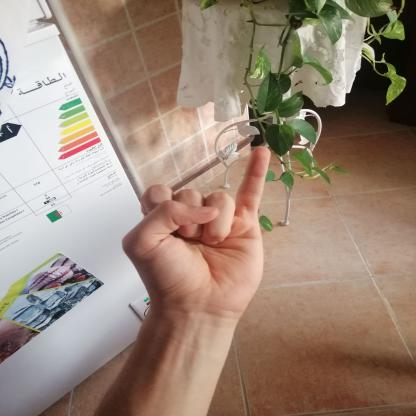MEEM: (105, 136, 282, 328)
